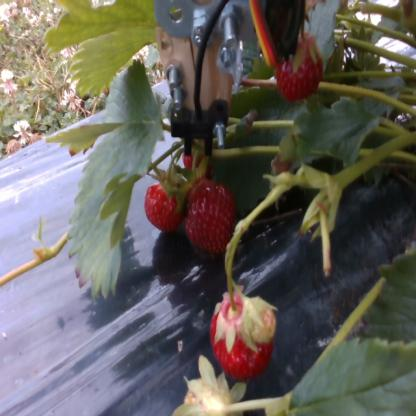ripe: (212, 292, 275, 380), (184, 179, 242, 260), (274, 31, 327, 107), (146, 180, 187, 229)
